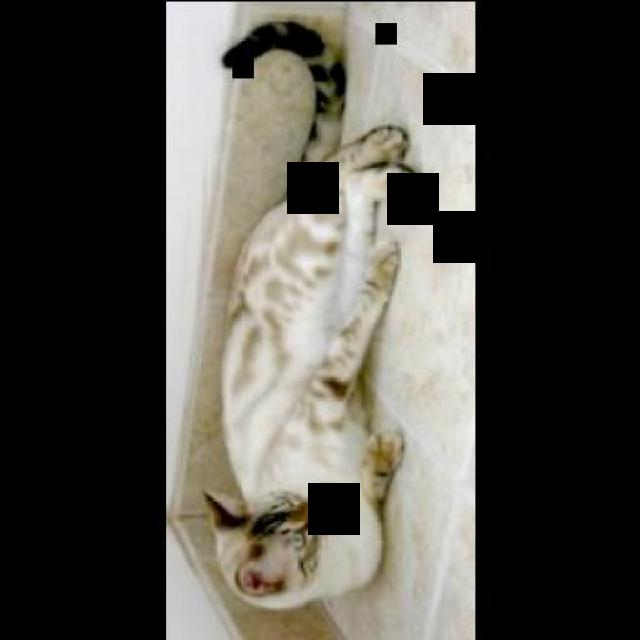unauthorized: (200, 122, 420, 610), (220, 17, 346, 197)
